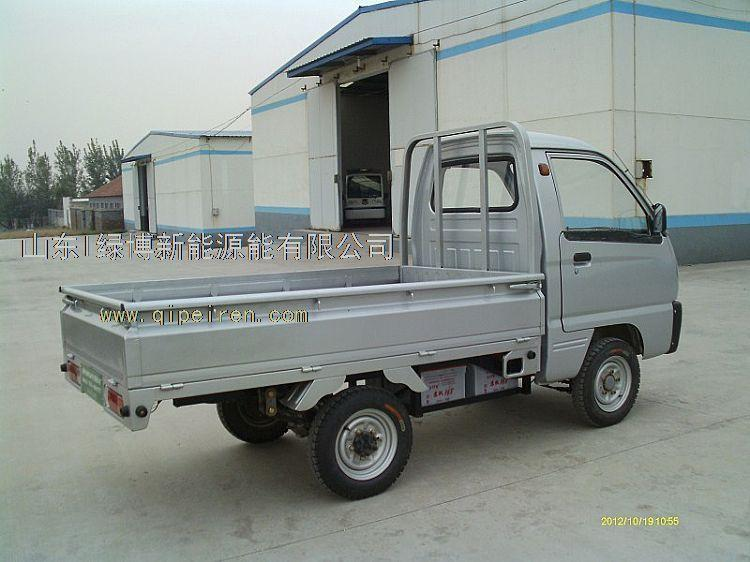truck: (48, 107, 683, 498)
